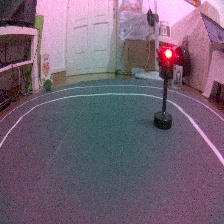red: (152, 46, 179, 131)
